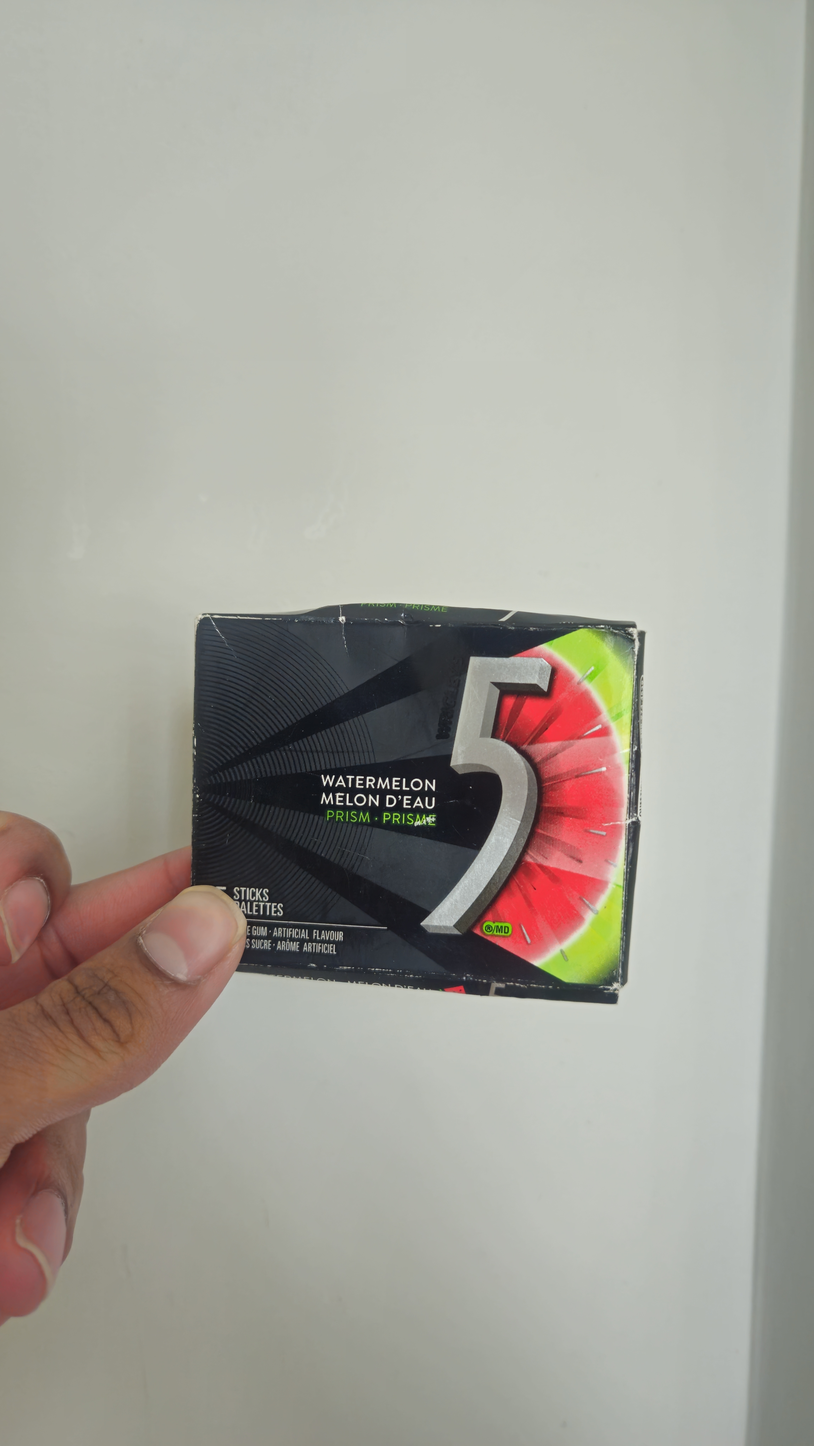cardboard: (192, 603, 644, 1002)
